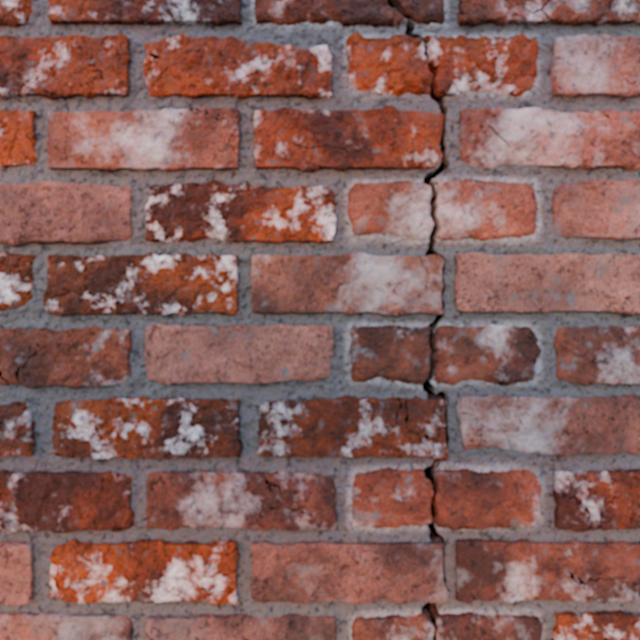broken_brick: (427, 33, 538, 96), (434, 468, 540, 530), (434, 325, 540, 385), (437, 179, 537, 239), (346, 32, 432, 96), (348, 181, 432, 240), (352, 467, 432, 528), (350, 325, 429, 384), (255, 0, 406, 27), (436, 612, 542, 639), (352, 613, 433, 639), (393, 0, 444, 24)
crack: (251, 0, 450, 639), (46, 107, 241, 172), (48, 539, 239, 605), (43, 253, 239, 316), (143, 34, 332, 99), (50, 397, 242, 459), (145, 180, 336, 242), (455, 539, 639, 603), (457, 394, 639, 457), (146, 470, 337, 530), (144, 324, 334, 384), (454, 253, 639, 314), (460, 107, 639, 169), (0, 181, 132, 246), (0, 34, 130, 99), (0, 470, 134, 533), (0, 326, 132, 388), (550, 34, 639, 98), (553, 469, 639, 532), (552, 179, 639, 239), (553, 325, 639, 385), (48, 0, 241, 26), (144, 613, 337, 639), (457, 0, 639, 26), (0, 611, 132, 639), (552, 610, 639, 639), (0, 541, 35, 605), (0, 110, 36, 168), (0, 251, 35, 310), (0, 401, 35, 456), (0, 0, 32, 27)
